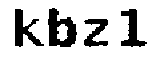1: (118, 8, 147, 49)
b: (45, 7, 78, 49)
k: (9, 5, 44, 50)
z: (83, 17, 112, 47)
